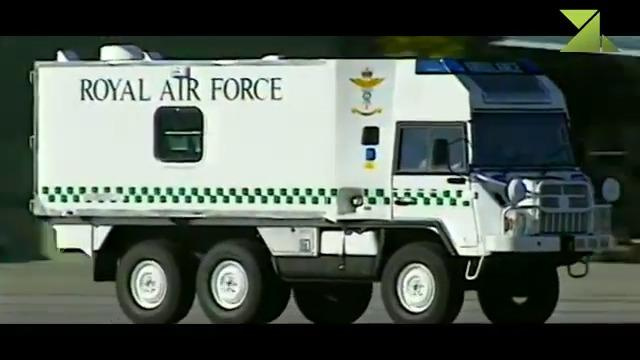MIL_HMMWV: (25, 41, 618, 325)
